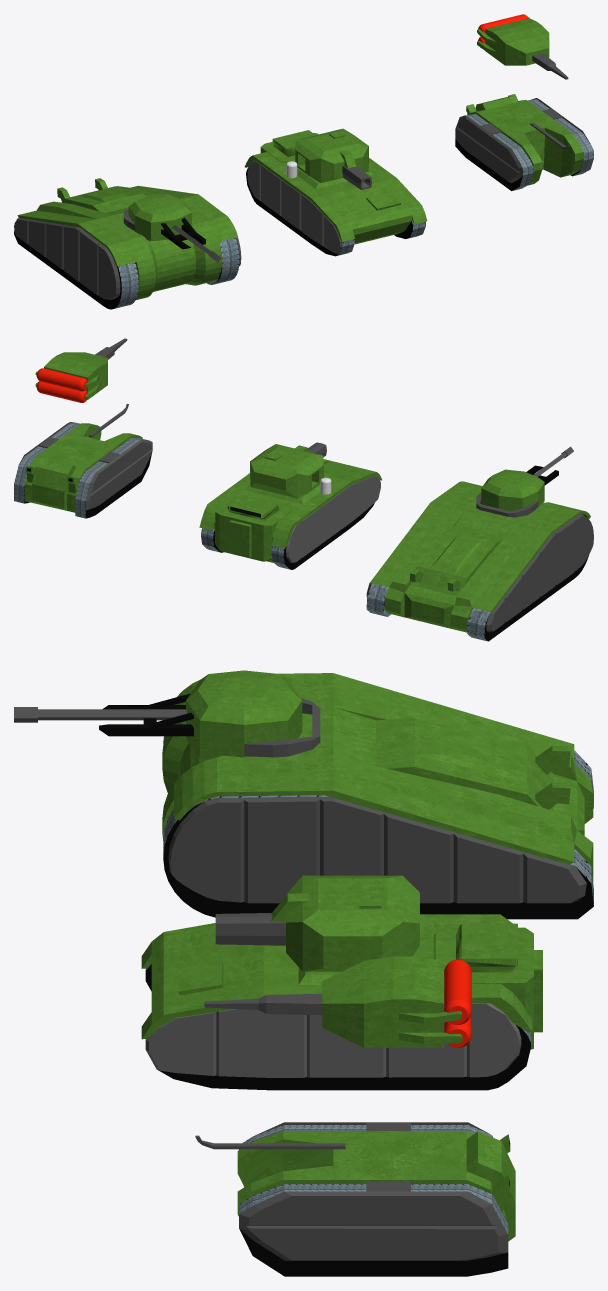
The model's file is TanksModels.fbx.
The picture shows the model from 3 angles, top to bottom: view 1: azimuth 30°, elevation 25°; view 2: azimuth 150°, elevation 25°; view 3: azimuth 270°, elevation 25°; orthographic projection. The views are drawn at different scales.
Visible parts, largest first — view 1: Cube.005, Cube, Cube.008, Cube.007, Cube.002, Cube.013, Cube.003, Cube.010, Cube.012, Cube.006, Cube.011, Cube.001 (+1 smaller); view 2: Cube.005, Cube, Cube.008, Cube.007, Cube.002, Cube.003, Cube.013, Cube.010, Cube.012, Cube.011, Cube.006, Cube.001; view 3: Cube.005, Cube.007, Cube, Cube.002, Cube.012, Cube.008, Cube.013, Cube.003, Cube.010, Cube.011, Cube.006, Cube.001 (+3 smaller).
Boxes of the visible parts, x1=… form: Cube.005: x1=17, y1=178, x2=237, y2=299; Cube: x1=244, y1=130, x2=427, y2=244; Cube.008: x1=466, y1=94, x2=583, y2=185; Cube.007: x1=14, y1=217, x2=241, y2=299; Cube.002: x1=247, y1=160, x2=425, y2=254; Cube.013: x1=477, y1=14, x2=568, y2=79; Cube.003: x1=295, y1=128, x2=368, y2=182; Cube.010: x1=123, y1=194, x2=205, y2=249; Cube.012: x1=455, y1=98, x2=593, y2=183; Cube.006: x1=14, y1=222, x2=239, y2=309; Cube.011: x1=455, y1=99, x2=593, y2=191; Cube.001: x1=246, y1=166, x2=424, y2=256; Cube.005: x1=370, y1=481, x2=590, y2=632; Cube: x1=199, y1=459, x2=381, y2=562; Cube.008: x1=24, y1=423, x2=142, y2=512; Cube.007: x1=366, y1=514, x2=593, y2=632; Cube.002: x1=286, y1=476, x2=380, y2=562; Cube.003: x1=250, y1=444, x2=323, y2=498; Cube.013: x1=35, y1=338, x2=127, y2=402; Cube.010: x1=476, y1=465, x2=558, y2=517; Cube.012: x1=18, y1=422, x2=152, y2=510; Cube.011: x1=14, y1=423, x2=152, y2=518; Cube.006: x1=366, y1=513, x2=588, y2=641; Cube.001: x1=201, y1=503, x2=374, y2=569; Cube.005: x1=162, y1=673, x2=593, y2=881; Cube.007: x1=168, y1=796, x2=586, y2=903; Cube: x1=141, y1=914, x2=542, y2=1049; Cube.002: x1=145, y1=1003, x2=521, y2=1077; Cube.012: x1=239, y1=1122, x2=508, y2=1260; Cube.008: x1=237, y1=1131, x2=515, y2=1241; Cube.013: x1=204, y1=956, x2=471, y2=1047; Cube.003: x1=271, y1=875, x2=419, y2=971; Cube.010: x1=99, y1=670, x2=320, y2=758; Cube.011: x1=239, y1=1125, x2=508, y2=1276; Cube.006: x1=163, y1=736, x2=593, y2=919; Cube.001: x1=145, y1=963, x2=530, y2=1090.
Size of the model in its own units: 1974 by 515 by 998.
Materials: 7 (3 with a texture image).
